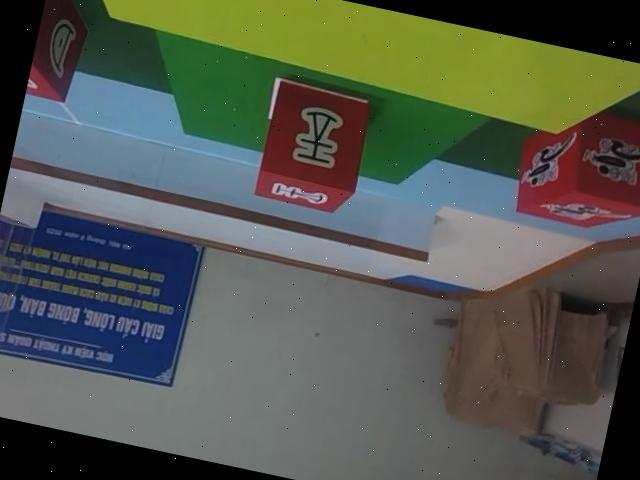R1: (505, 100, 640, 242)
R2 Real: (251, 77, 372, 217), (23, 0, 99, 108)
